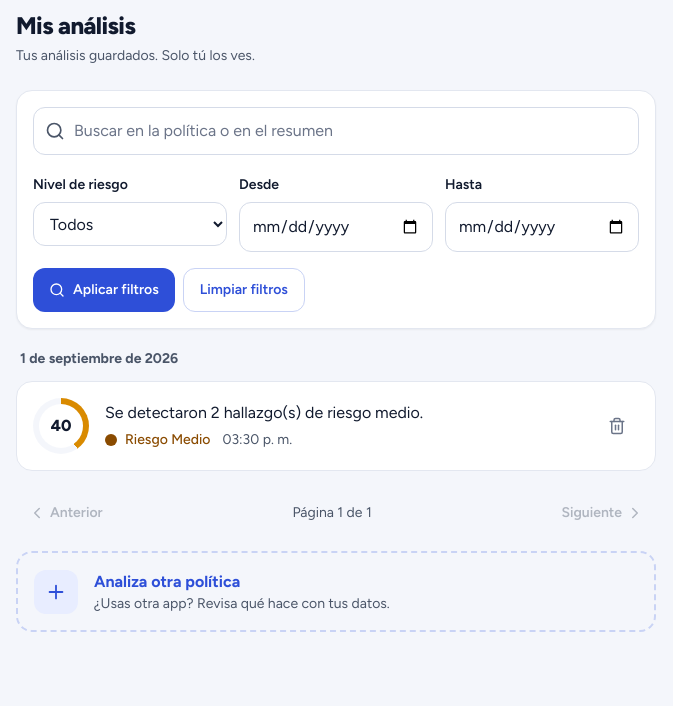
Test: Historial › búsqueda y filtros › rechaza un rango de fechas invertido sin consultar
The width and height of the screenshot is (673, 706).
Expected: the text "Se detectaron 2 hallazgo(s) de riesgo medio." is shown, [105,403,423,422]
Step 1. Type "2026-09-30" into the date field labelled "Desde" → (336, 227), box [239,202,433,252]
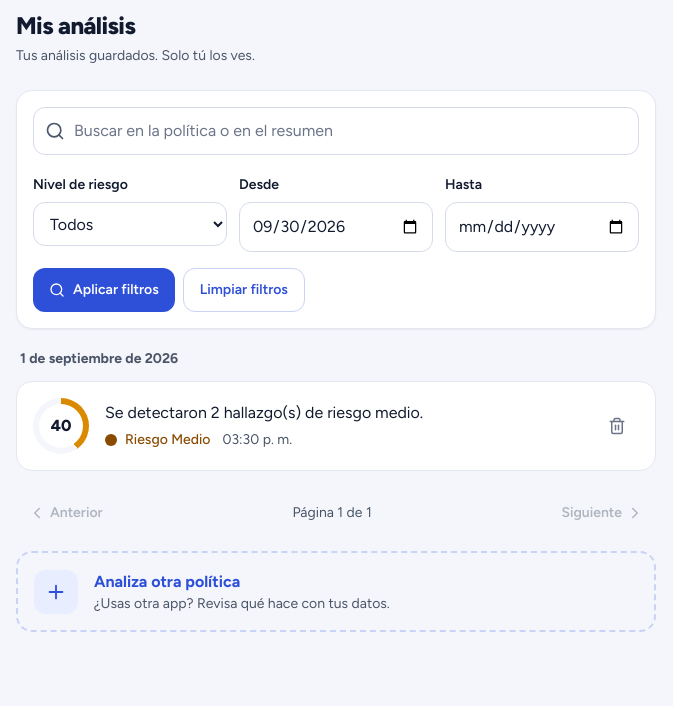
Step 2. Type "2026-09-01" into the date field labelled "Hasta" → (542, 227), box [445,202,639,252]
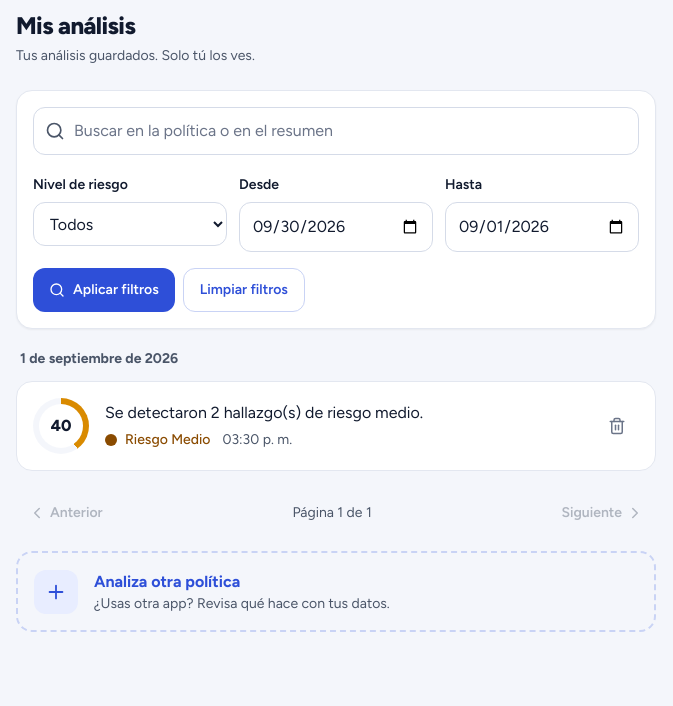
Step 3. Click the button "Aplicar filtros" → (104, 290), box [33,268,175,312]
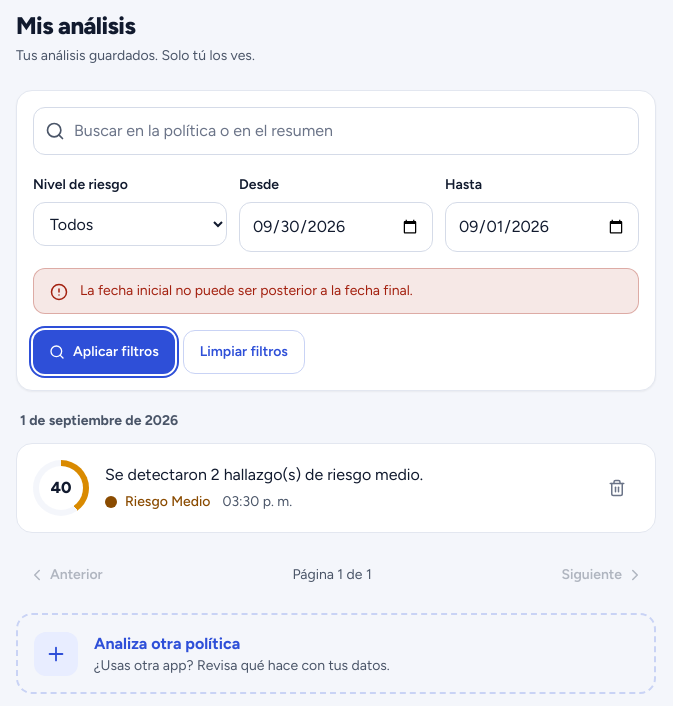
Expected: the message reads "La fecha inicial no puede ser posterior a la fecha final.", [80,282,413,299]
